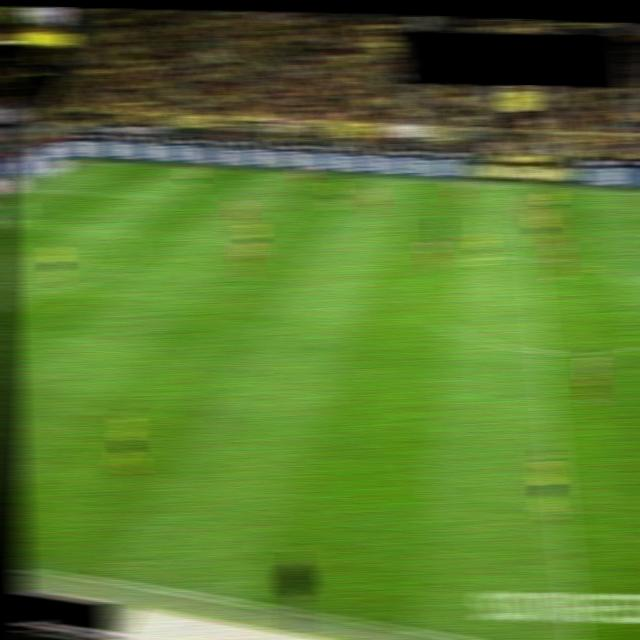bigarea_top_inner: (158, 191, 180, 204)
bigarea_top_outter: (13, 183, 35, 195)
bottom_arc_area_intersection: (28, 286, 49, 297)
corner: (73, 157, 95, 169)
halfcircle_bottom: (532, 344, 553, 356)
halfcircle_top: (521, 251, 543, 263)
midline_top_intersection: (512, 181, 535, 193)
smallarea_top_inner: (4, 216, 27, 227)
top_arc_area_intersection: (109, 227, 131, 239)
